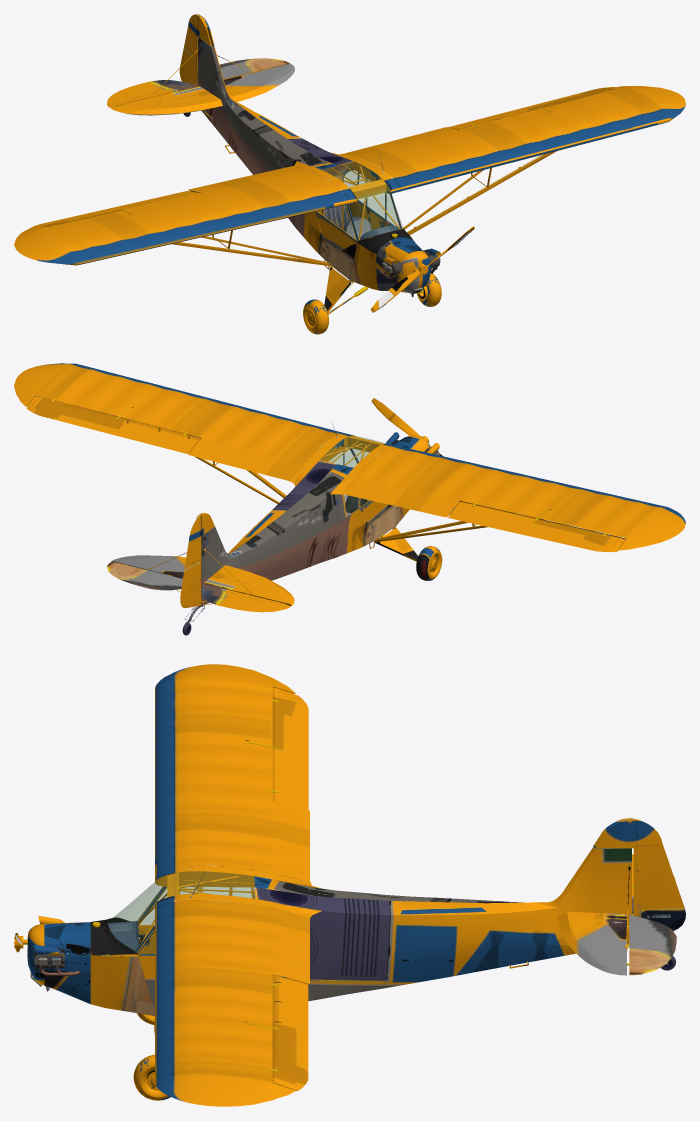
File: blue-metal.gltf
3 renders of one model, top to bottom at view 1: azimuth 30°, elevation 25°; view 2: azimuth 150°, elevation 25°; view 3: azimuth 270°, elevation 25°, orthographic. The views are drawn at different scales.
Parts seen in each view (by area): view 1: Exterior; view 2: Exterior; view 3: Exterior.
Part boxes in pixels (x1,y1,x2,y2): Exterior: (14,14,685,334); Exterior: (14,363,685,635); Exterior: (14,664,685,1106).
Bounding box in the file's own units: 10.65 × 2.73 × 6.86.
73 materials, 61 textured.
